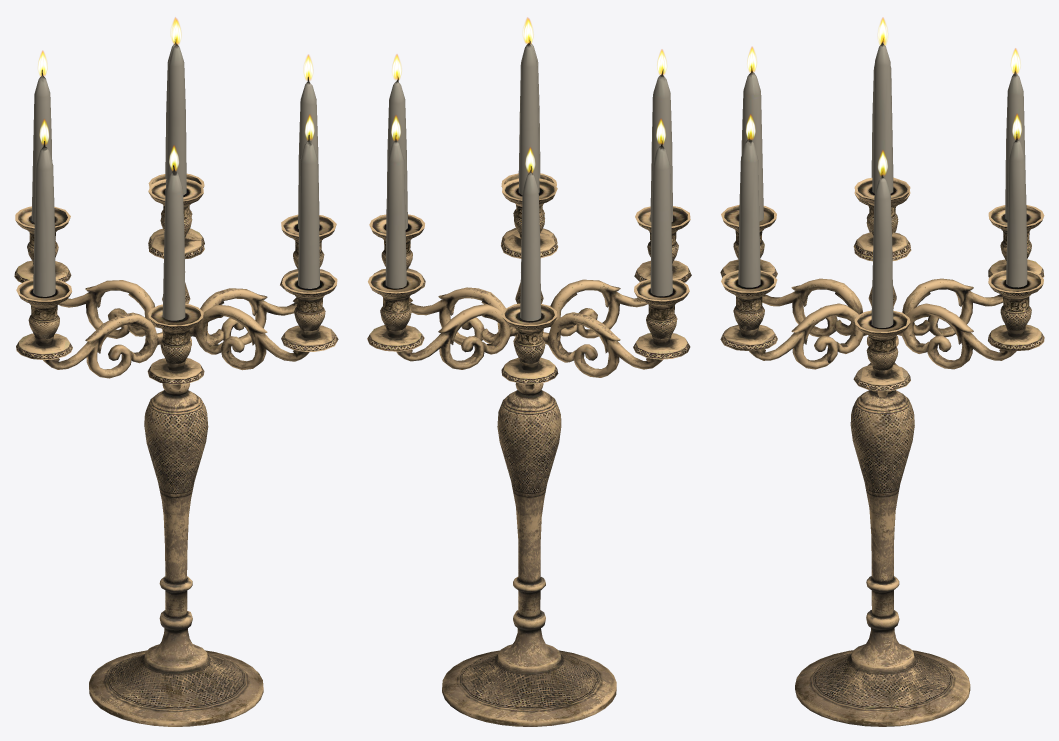
The model's file is candelabra.glb.
3 renders of one model, left to right at view 1: azimuth 30°, elevation 25°; view 2: azimuth 150°, elevation 25°; view 3: azimuth 270°, elevation 25°, orthographic.
Visible parts, largest first — view 1: candelabra.001; view 2: candelabra.001; view 3: candelabra.001.
Part boxes in pixels (x1,y1,x2,y2): candelabra.001: (14, 17, 338, 726); candelabra.001: (367, 17, 691, 726); candelabra.001: (720, 17, 1044, 726).
Bounding box in the file's own units: 0.653 × 1.34 × 0.5836.
2 materials, 2 textured.
